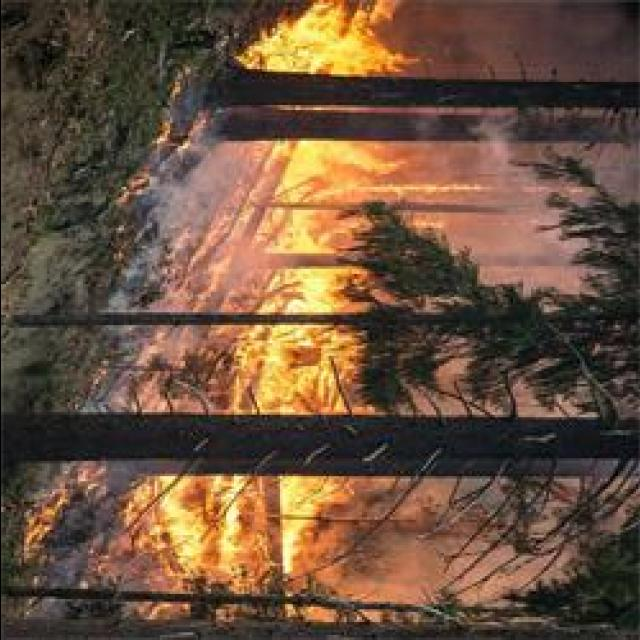fire: (261, 142, 535, 190), (250, 5, 400, 78), (245, 328, 341, 417), (286, 478, 346, 570), (260, 265, 358, 317)
smoke: (138, 172, 242, 230), (468, 222, 564, 267)
